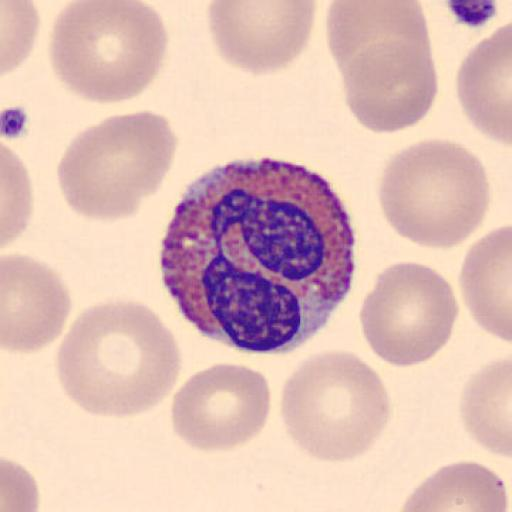RBC: (56, 295, 183, 420), (55, 108, 178, 222), (278, 347, 392, 464), (377, 137, 492, 251), (46, 0, 169, 104), (358, 260, 460, 370), (339, 38, 439, 134), (170, 361, 272, 454), (324, 0, 434, 86), (205, 1, 318, 77), (453, 20, 512, 145), (2, 252, 72, 355), (458, 223, 512, 345), (397, 458, 510, 512), (458, 356, 512, 458), (1, 142, 33, 249), (2, 0, 42, 75), (0, 455, 40, 512)
WBC: (159, 156, 360, 355)
